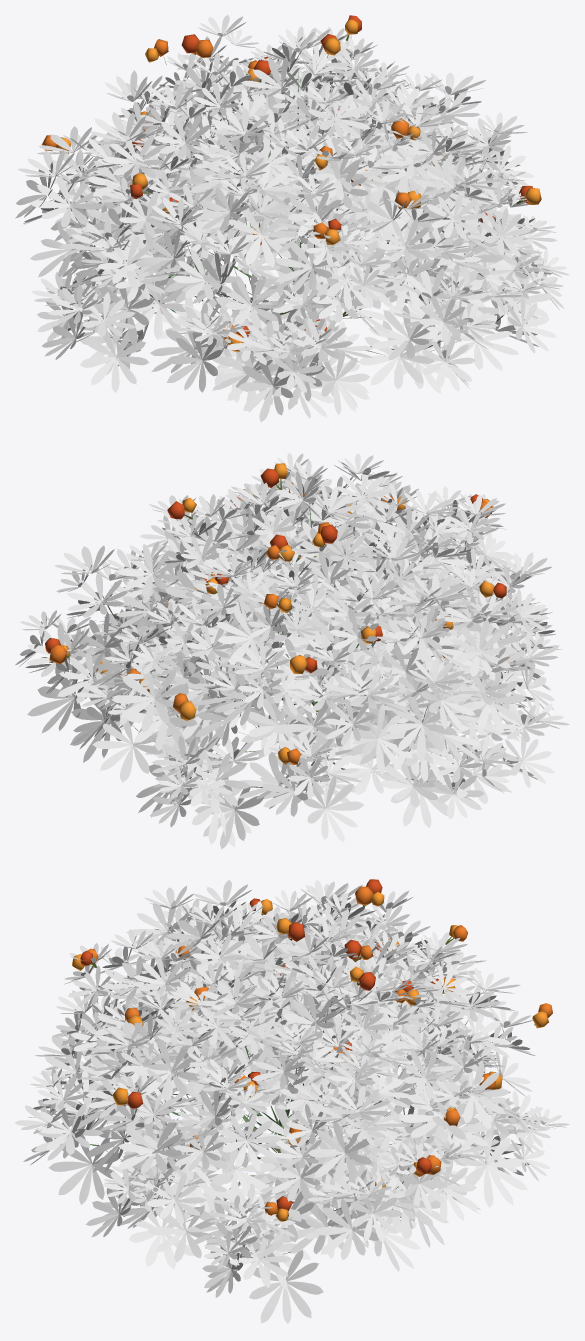
Rendered from BerryBush.fbx.
3 views of the same model, one above another, from view 1: azimuth 30°, elevation 25°; view 2: azimuth 150°, elevation 25°; view 3: azimuth 270°, elevation 25° (orthographic). The views are drawn at different scales.
Visible parts, largest first — view 1: SM_BerryBush; view 2: SM_BerryBush; view 3: SM_BerryBush.
Boxes of the visible parts, <box> form: SM_BerryBush: <box>15,14,569,422</box>; SM_BerryBush: <box>15,453,569,849</box>; SM_BerryBush: <box>14,879,569,1323</box>.
Bounding box in the file's own units: 1.29 × 0.8038 × 1.24.
17 materials, 1 textured.
